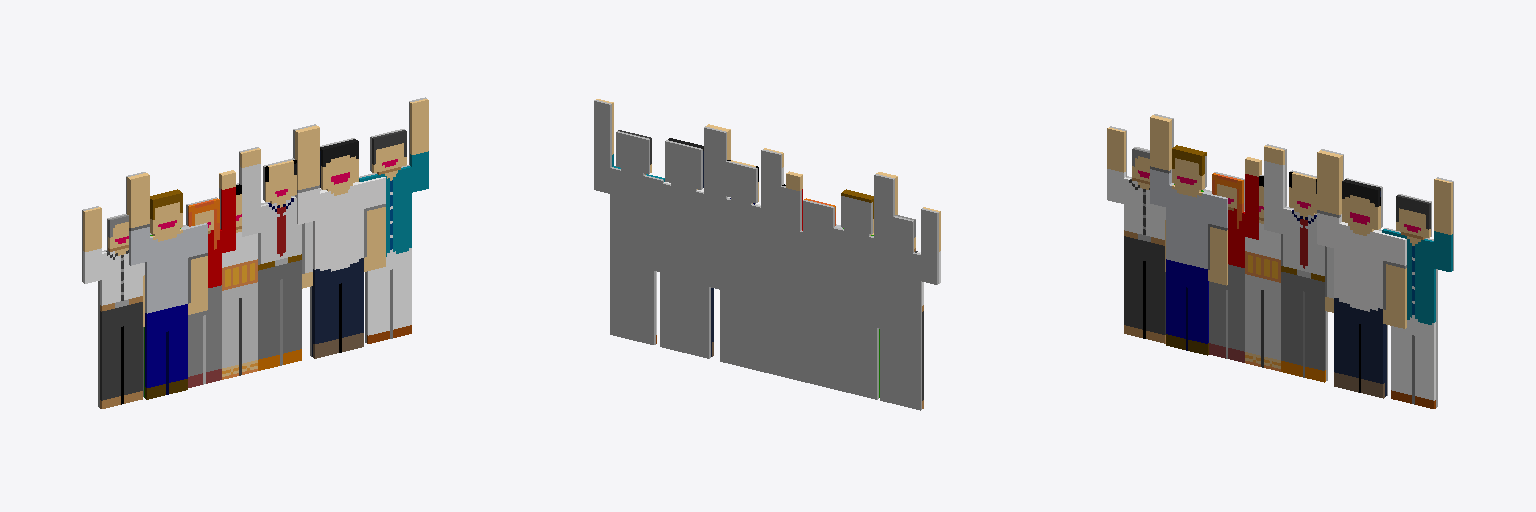
The picture shows the model from 3 angles: view 1: azimuth 30°, elevation 25°; view 2: azimuth 150°, elevation 25°; view 3: azimuth 330°, elevation 25°; orthographic projection.
Parts seen in each view (by area): view 1: object 1; view 2: object 1; view 3: object 1.
Boxes of the visible parts, <box> form: object 1: <box>82,97,428,408</box>; object 1: <box>594,99,940,410</box>; object 1: <box>1107,114,1453,408</box>.
Size of the model in its own units: 12.5 by 8 by 0.3.
1 materials, 1 textured.